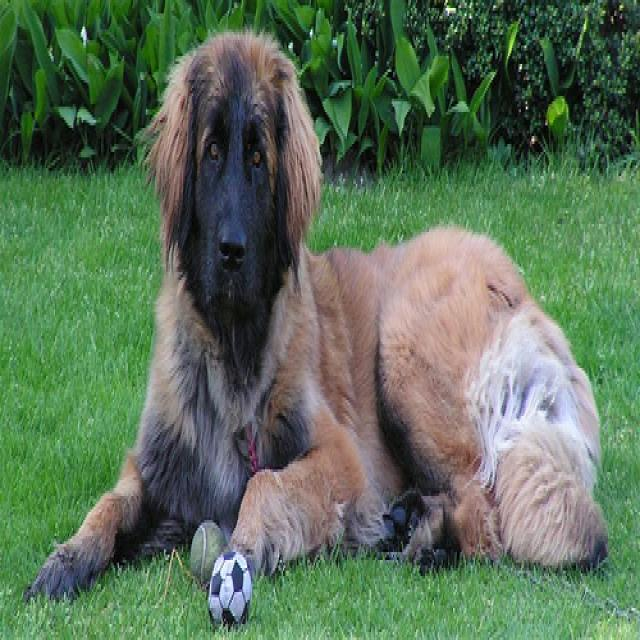dog-leonberger: (19, 5, 611, 627)
